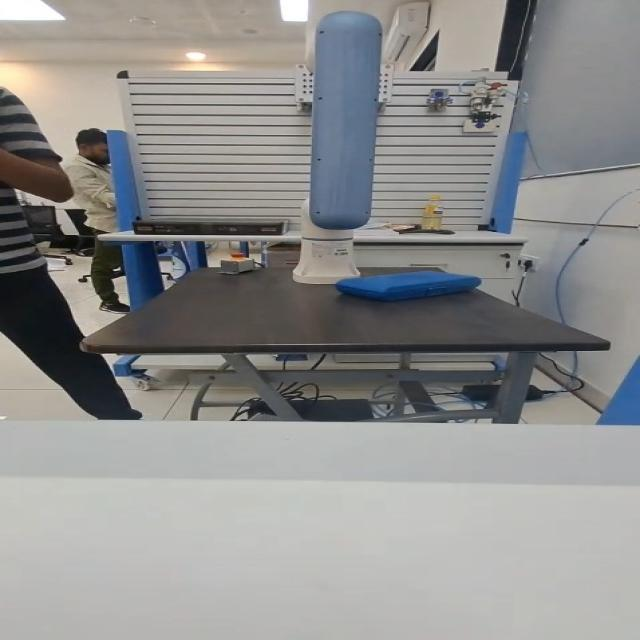top-surface: (357, 272, 454, 284)
